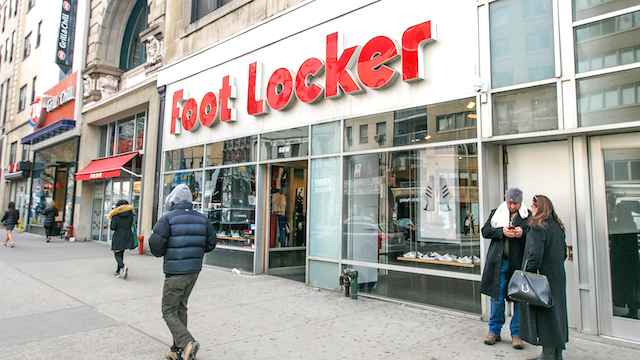Age_30_40: (504, 188, 526, 218)
E_White: (504, 188, 526, 218)
Emotion_Sad: (504, 188, 526, 218)
G_Male: (504, 188, 526, 218)
Not_Face: (167, 184, 204, 210), (528, 192, 557, 218), (115, 199, 138, 215), (46, 198, 60, 211), (7, 199, 21, 212)
